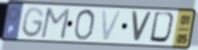D: (148, 11, 178, 46)
G: (21, 6, 46, 40)
M: (39, 7, 72, 41)
O: (72, 8, 97, 42)
V: (100, 8, 125, 43), (130, 10, 154, 44)
